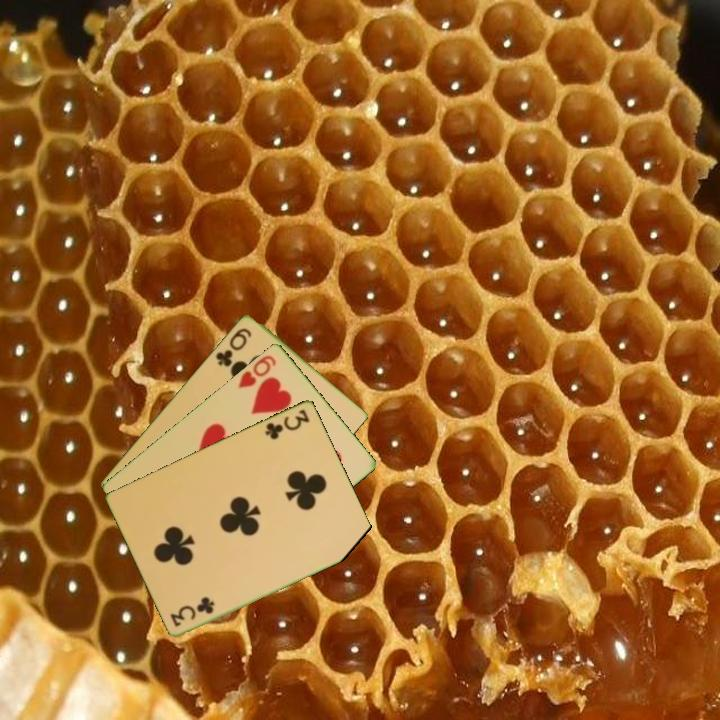3c: (262, 405, 313, 442), (167, 594, 218, 629)
6c: (212, 324, 255, 369)
6h: (235, 351, 279, 391)
